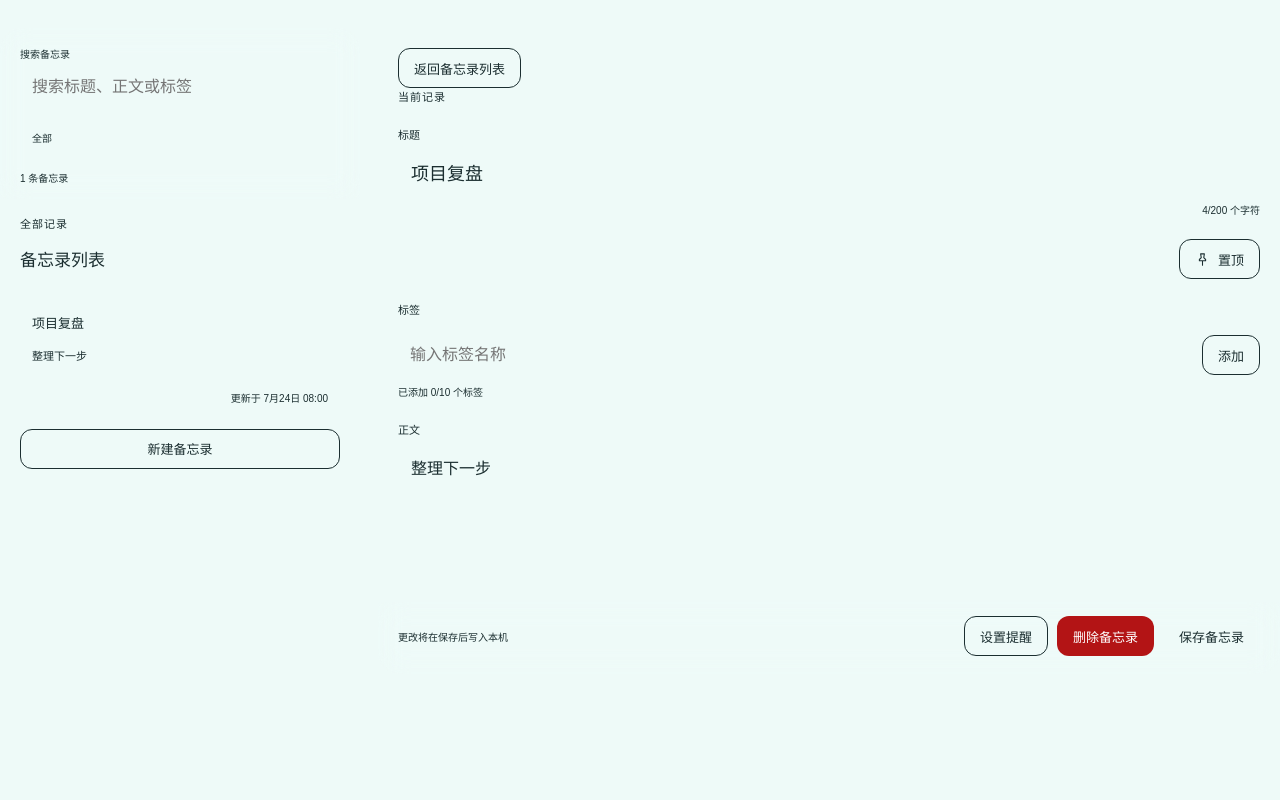
Scenario: MemoWorkspace › serializes saves and commits the latest draft after an earlier request completes
Replace the text in the field labelled "标题" with "第一版" at x=829, y=172, box [398, 150, 1260, 194]
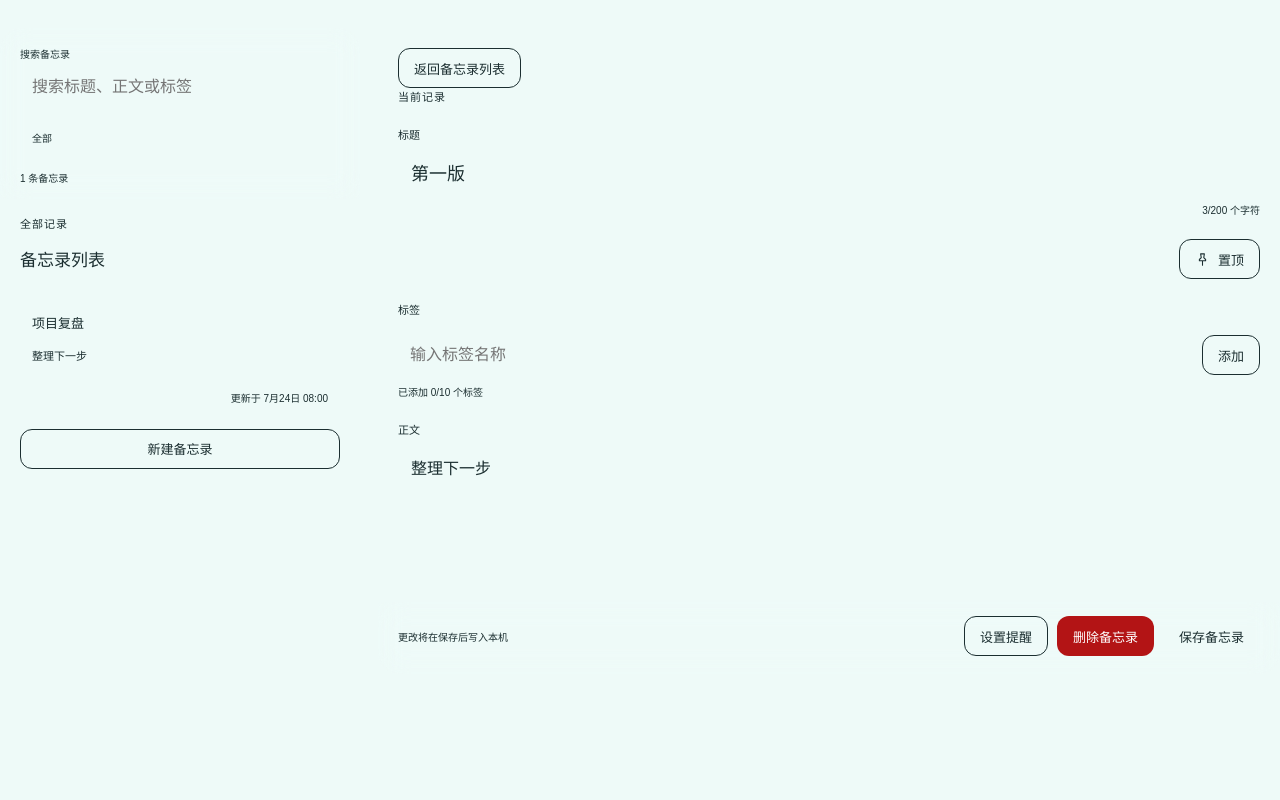
Click the button "保存备忘录" at x=1212, y=636, box [1163, 616, 1260, 656]
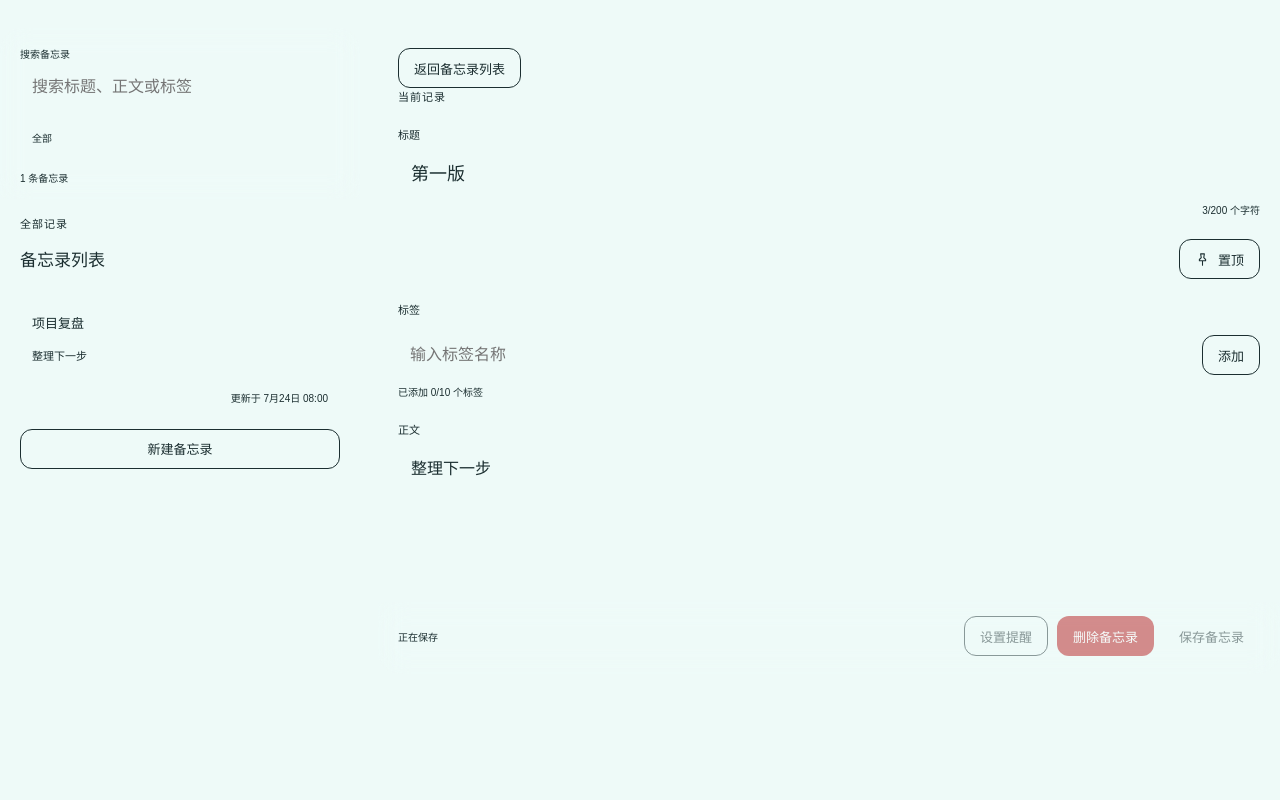
Replace the text in the field labelled "标题" with "最终版" at x=829, y=172, box [398, 150, 1260, 194]
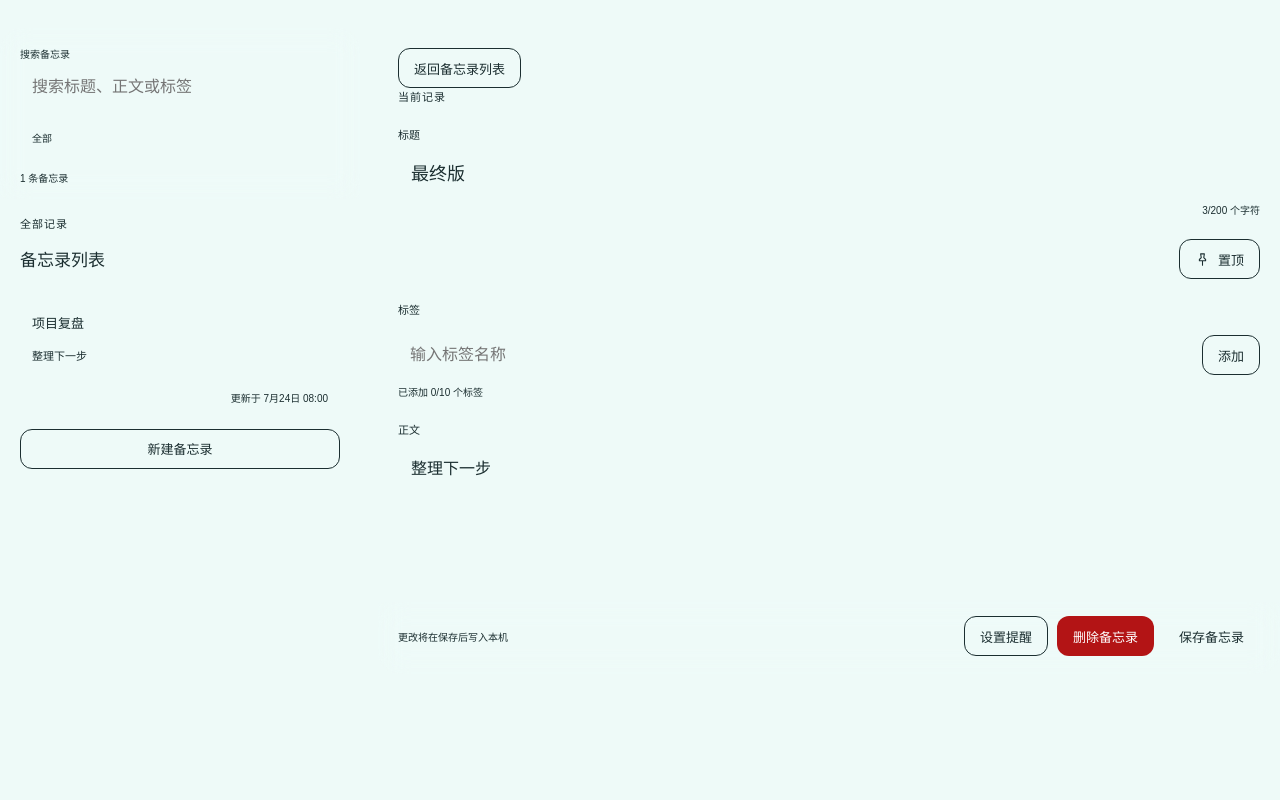
Check: the button "保存备忘录" is enabled, box [1163, 616, 1260, 656]
